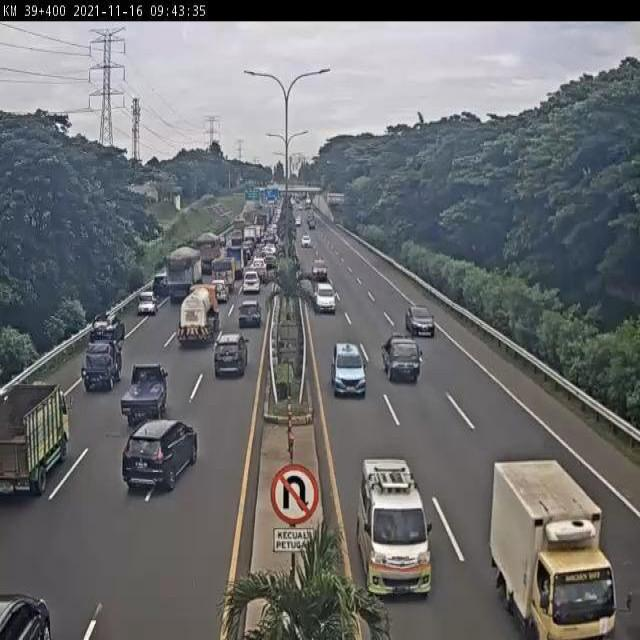car: (358, 458, 434, 598), (119, 419, 199, 497), (118, 367, 167, 428), (76, 343, 119, 396), (380, 333, 421, 388), (333, 342, 368, 398), (213, 335, 247, 385), (89, 317, 129, 351), (407, 303, 436, 336), (236, 301, 262, 332), (134, 293, 158, 323), (315, 279, 335, 312), (146, 273, 170, 299), (208, 281, 229, 308), (242, 270, 259, 294)
small truck: (489, 457, 636, 640), (0, 383, 70, 504)
truck-m-: (174, 279, 223, 349), (164, 245, 205, 307)
